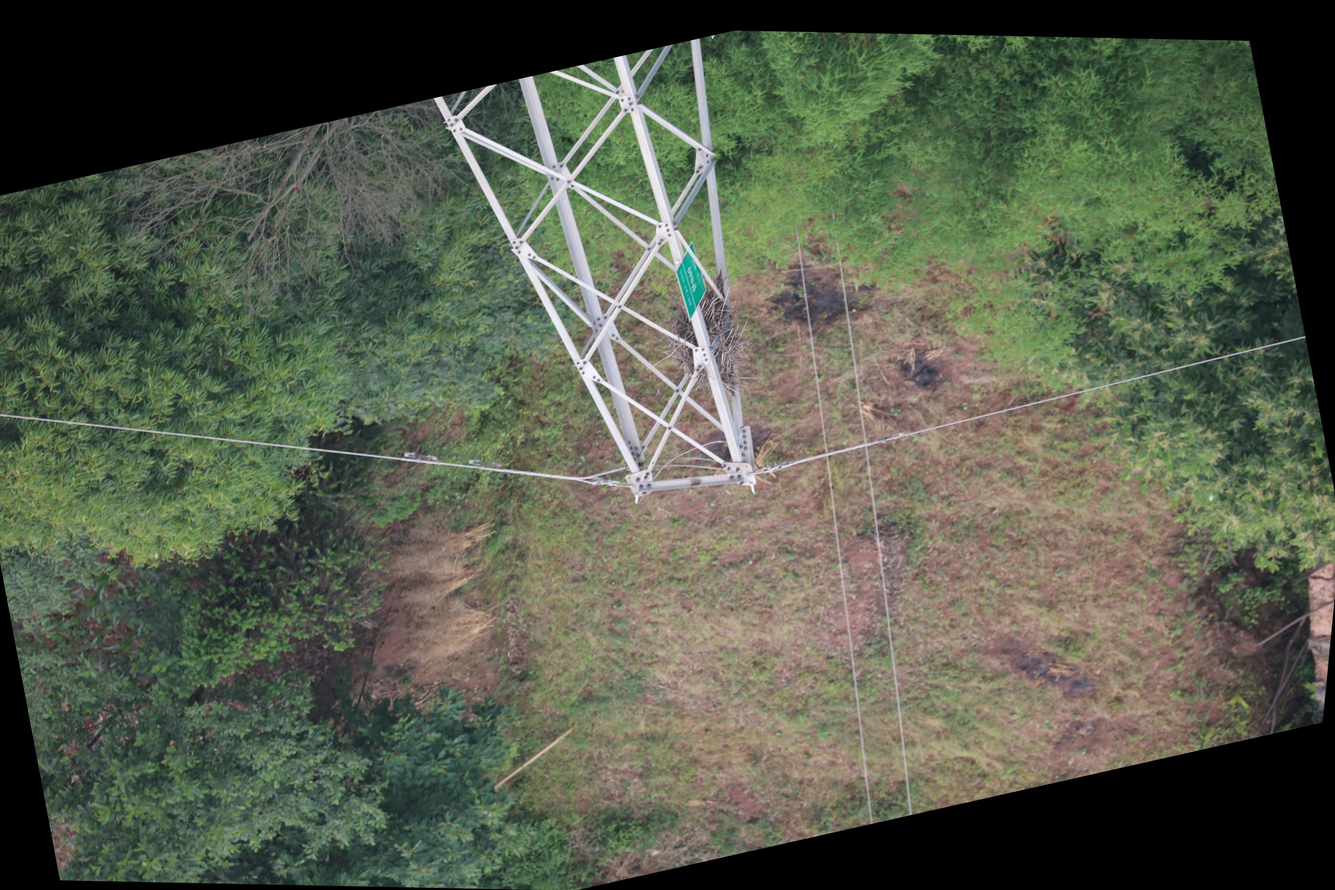damper: (398, 441, 443, 473), (462, 449, 507, 481)
